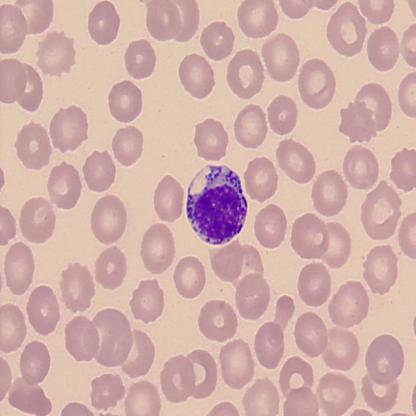Myelocyte: (187, 162, 248, 244)
